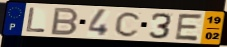3: (149, 12, 174, 40)
4: (87, 7, 111, 38)
B: (49, 7, 81, 37)
C: (113, 11, 143, 38)
E: (173, 12, 205, 42)
L: (25, 7, 47, 33)
